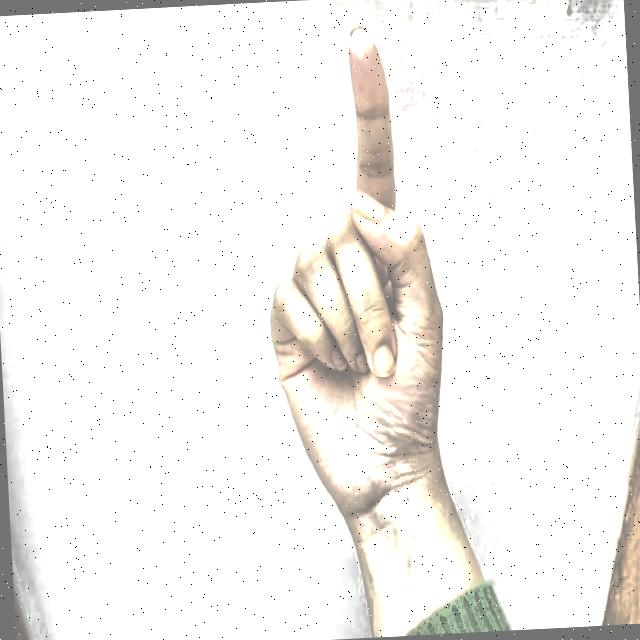U: (240, 6, 470, 552)
